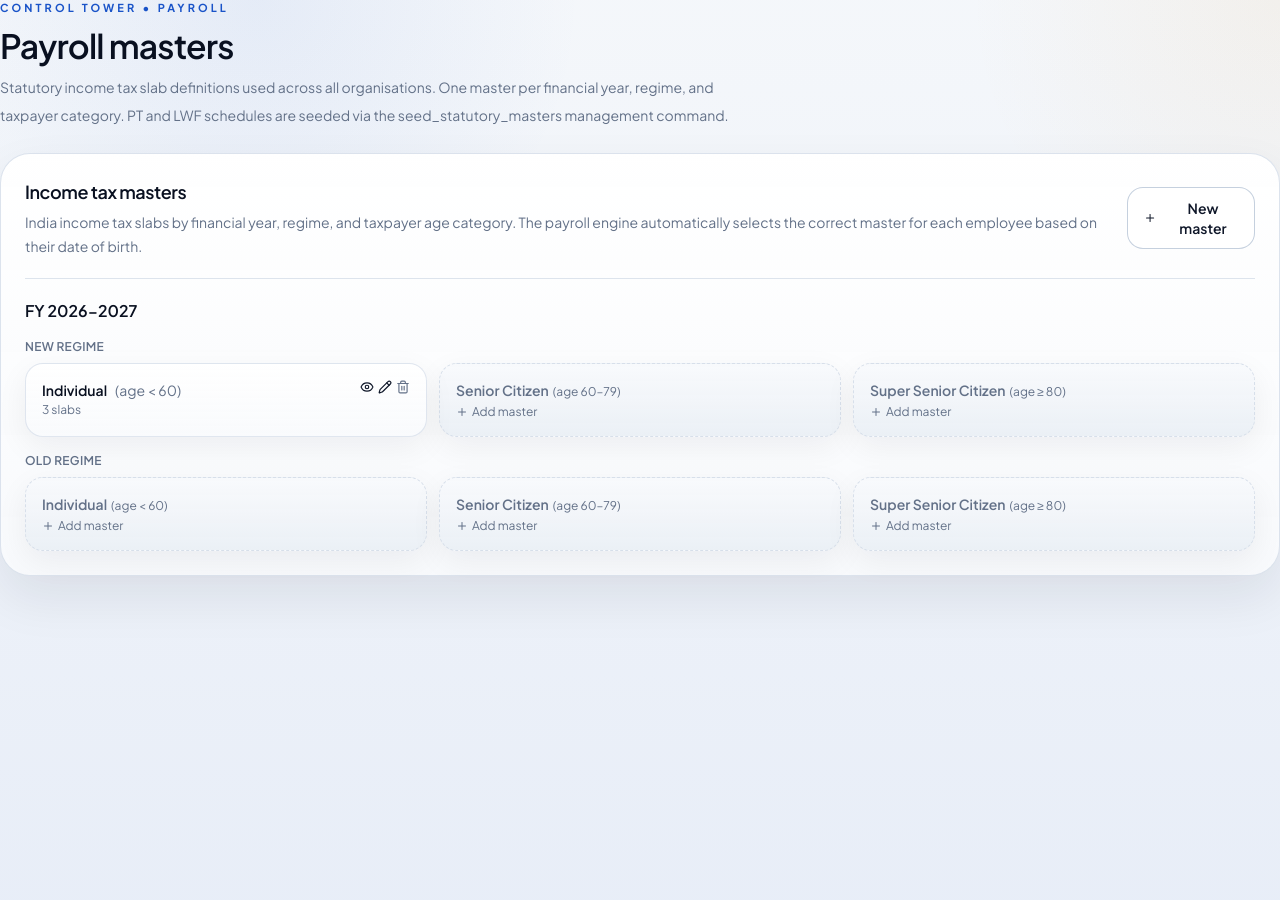
Test: PayrollMastersPage › opens the view modal when the eye button is clicked on a slab set
Click the button named "View slabs" at (367, 387), box [360,380,374,394]
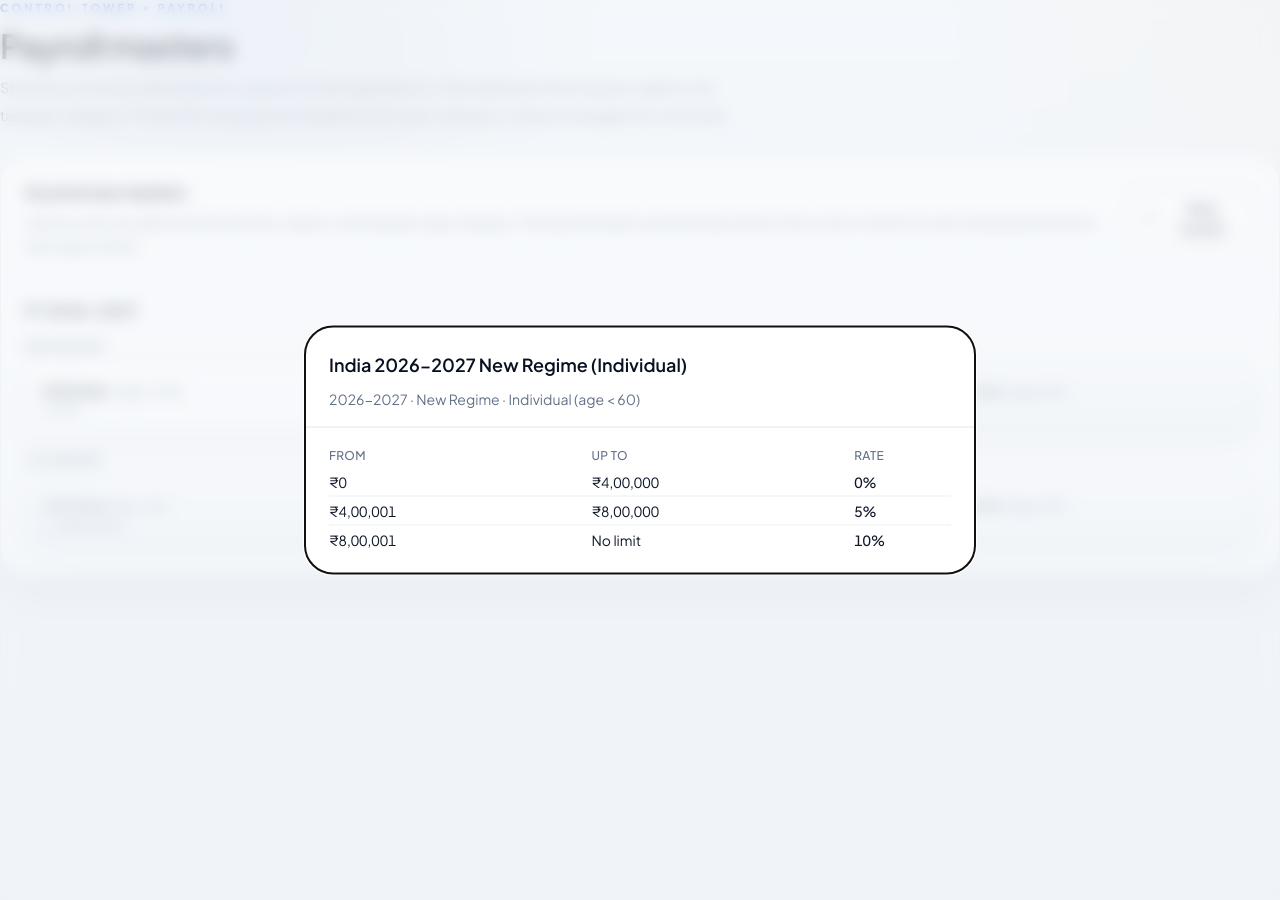
Result: the heading "India 2026-2027 New Regime (Individual)" is shown at [329,352,687,376]
Result: the text "0%" is shown at [854,468,951,496]
Result: the text "5%" is shown at [854,496,951,525]
